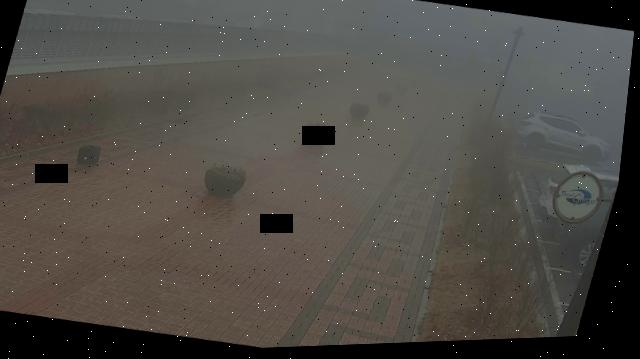bag: (77, 141, 106, 168)
